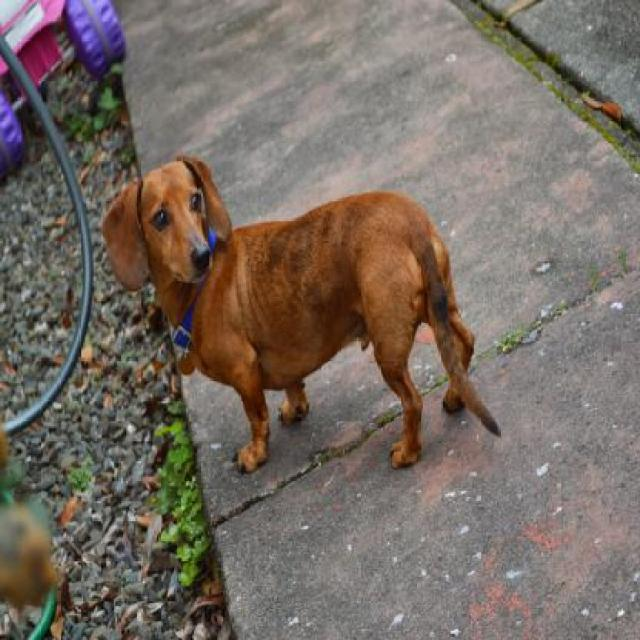Dog: (102, 152, 503, 471)
